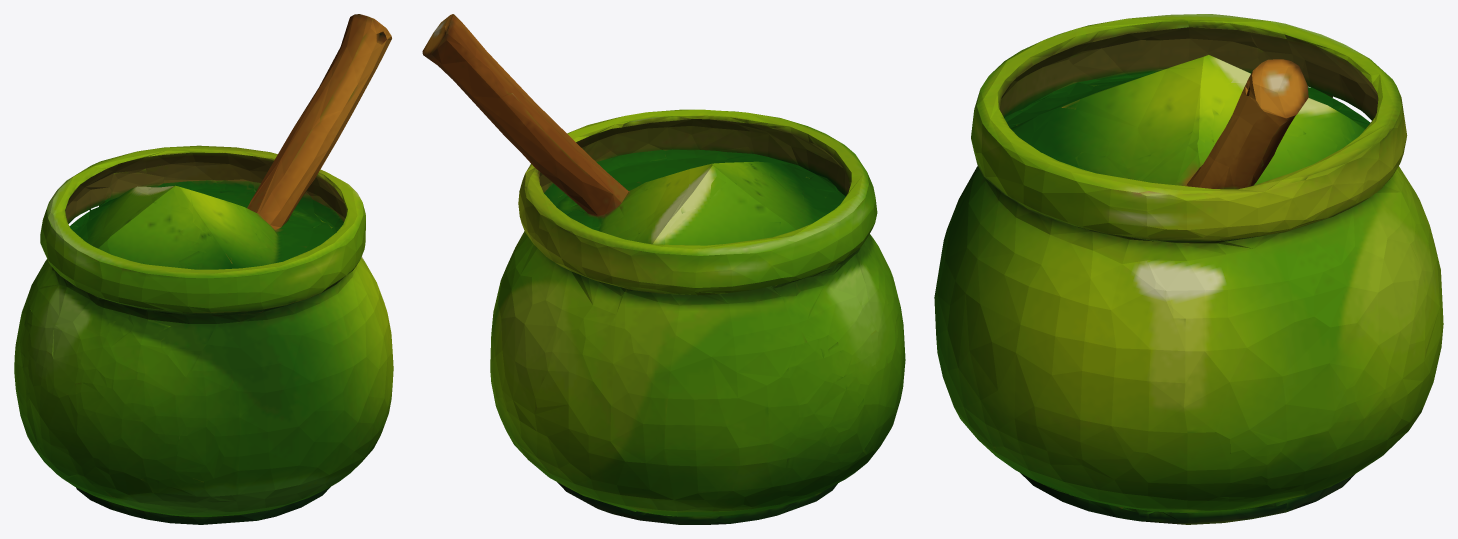
File: matcha.glb
3 views of the same model, side by side, from view 1: azimuth 30°, elevation 25°; view 2: azimuth 150°, elevation 25°; view 3: azimuth 270°, elevation 25° (orthographic). The views are drawn at different scales.
Visible parts, largest first — view 1: world; view 2: world; view 3: world.
Part boxes in pixels (x1=…): world: x1=14, y1=14, x2=393, y2=524; world: x1=422, y1=14, x2=905, y2=524; world: x1=934, y1=14, x2=1443, y2=524.
Size of the model in its own units: 0.7353 by 0.7078 by 0.6362.
1 material, 1 textured.
